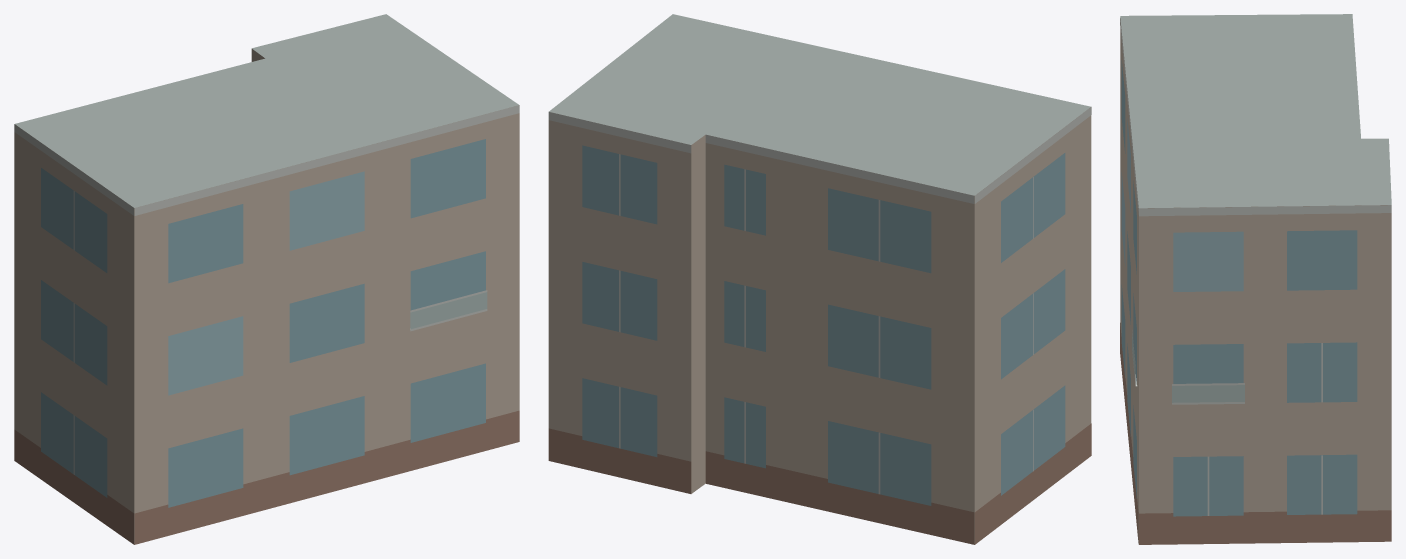
File: survey-upis-32841322.glb
The picture shows the model from 3 angles, left to right: view 1: azimuth 30°, elevation 25°; view 2: azimuth 150°, elevation 25°; view 3: azimuth 270°, elevation 25°; orthographic projection. The views are drawn at different scales.
Visible parts, largest first — view 1: survey-upis-32841322.tmp; view 2: survey-upis-32841322.tmp; view 3: survey-upis-32841322.tmp.
Part boxes in pixels (box(x1,y1,x2,y2)): survey-upis-32841322.tmp: box(14, 14, 519, 544); survey-upis-32841322.tmp: box(548, 14, 1091, 544); survey-upis-32841322.tmp: box(1120, 14, 1391, 544).
Bounding box in the file's own units: 12.64 × 10.2 × 7.47.
